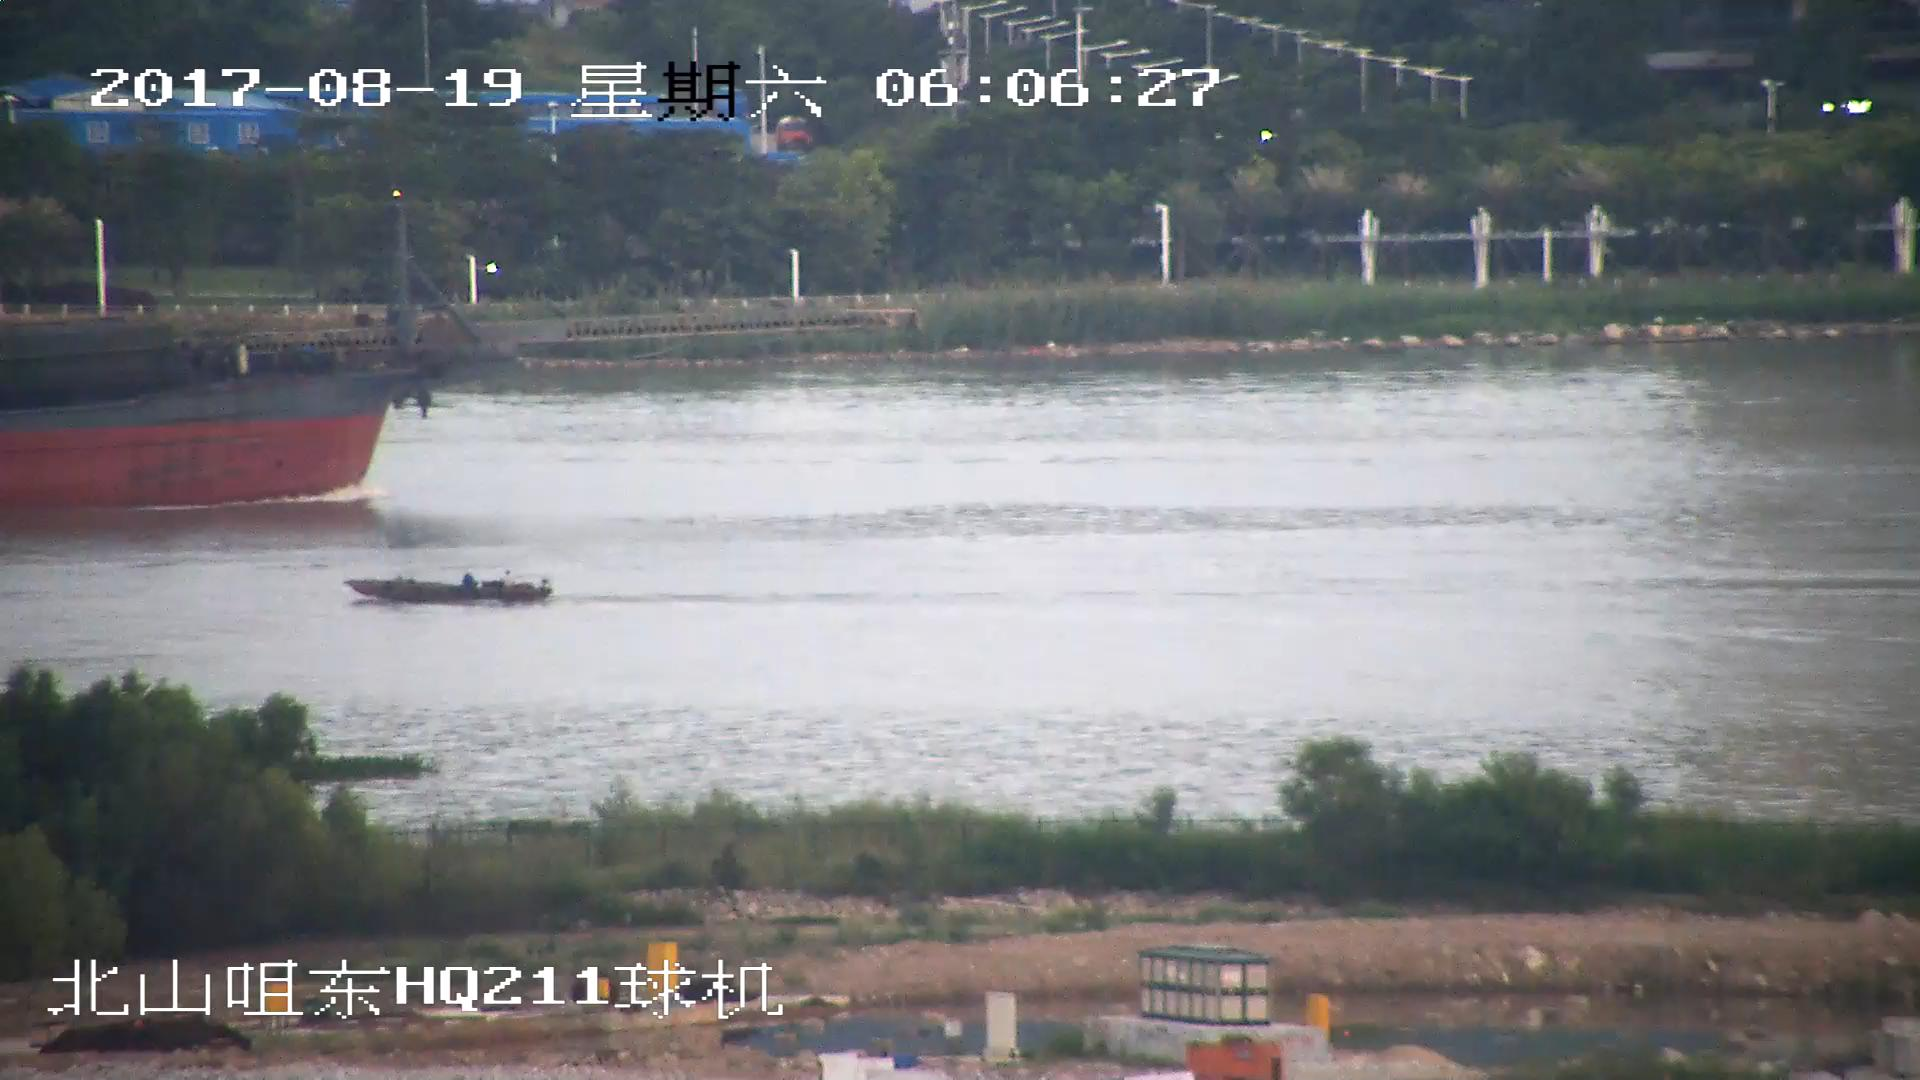bulk cargo carrier: (1, 195, 896, 513)
fishing boat: (342, 569, 554, 604)
